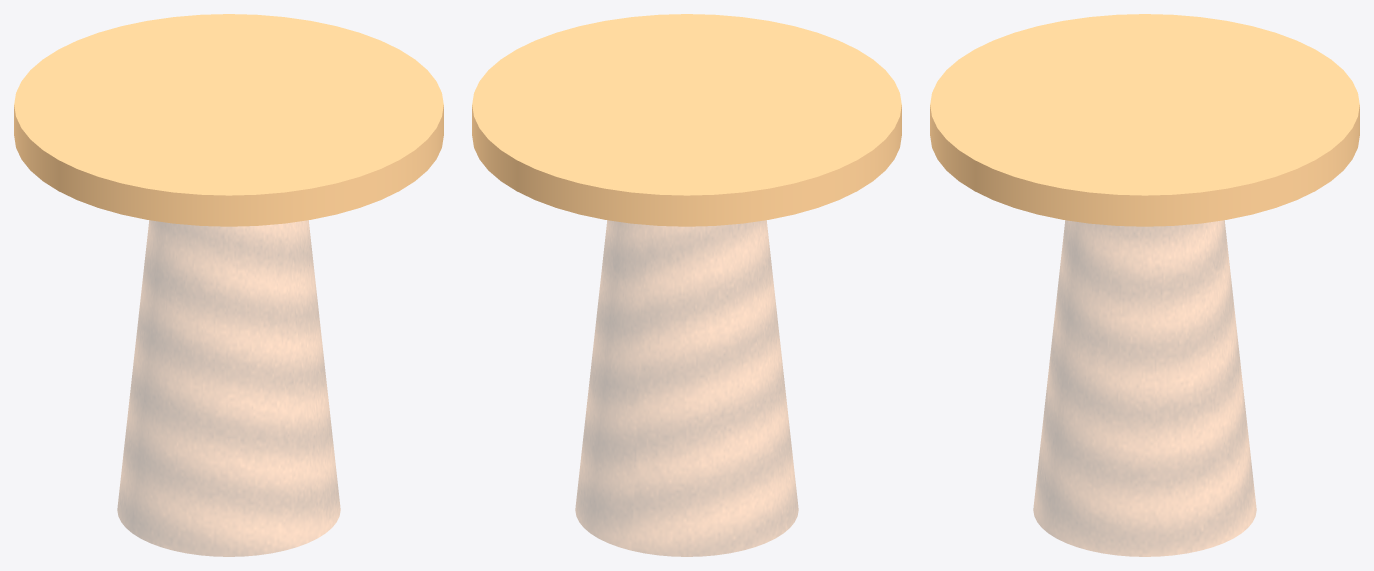
File: ref06_24.glb
3 views of the same model, side by side, from view 1: azimuth 30°, elevation 25°; view 2: azimuth 150°, elevation 25°; view 3: azimuth 270°, elevation 25° (orthographic).
Parts seen in each view (by area): view 1: ref06_24; view 2: ref06_24; view 3: ref06_24.
Part boxes in pixels (x1=…): ref06_24: x1=14, y1=14, x2=443, y2=556; ref06_24: x1=472, y1=14, x2=901, y2=556; ref06_24: x1=930, y1=14, x2=1359, y2=556.
Bounding box in the file's own units: 0.5 × 0.52 × 0.5.
2 materials, 1 textured.
